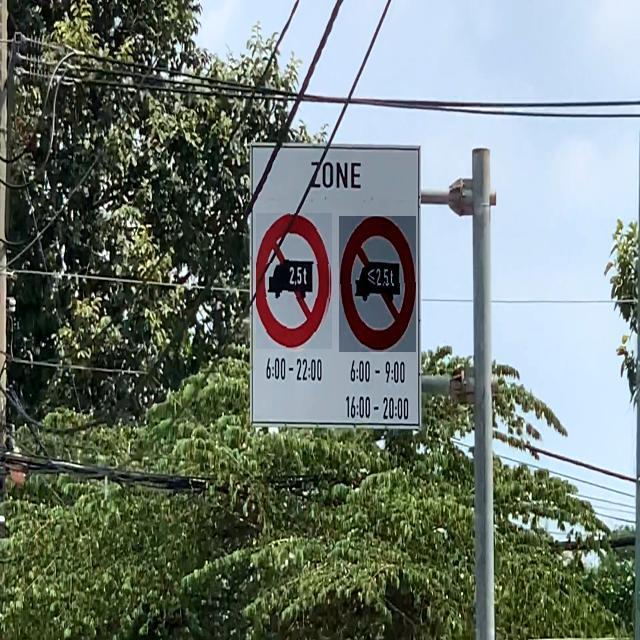P-106b: (339, 216, 416, 352), (256, 214, 332, 350)
